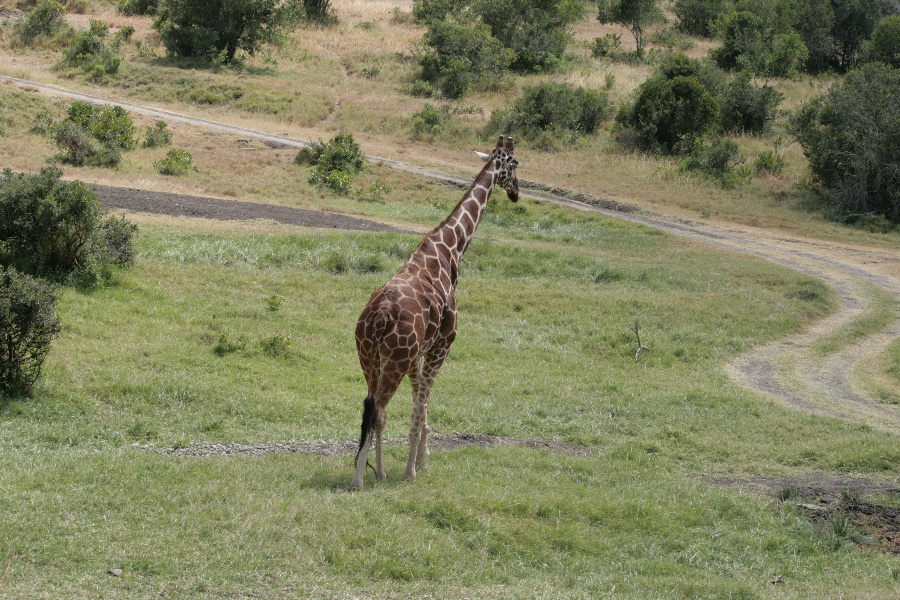giraffe: (336, 124, 529, 498)
